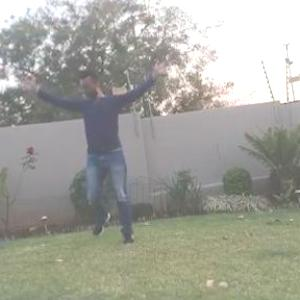takeoff: (18, 57, 172, 255)
